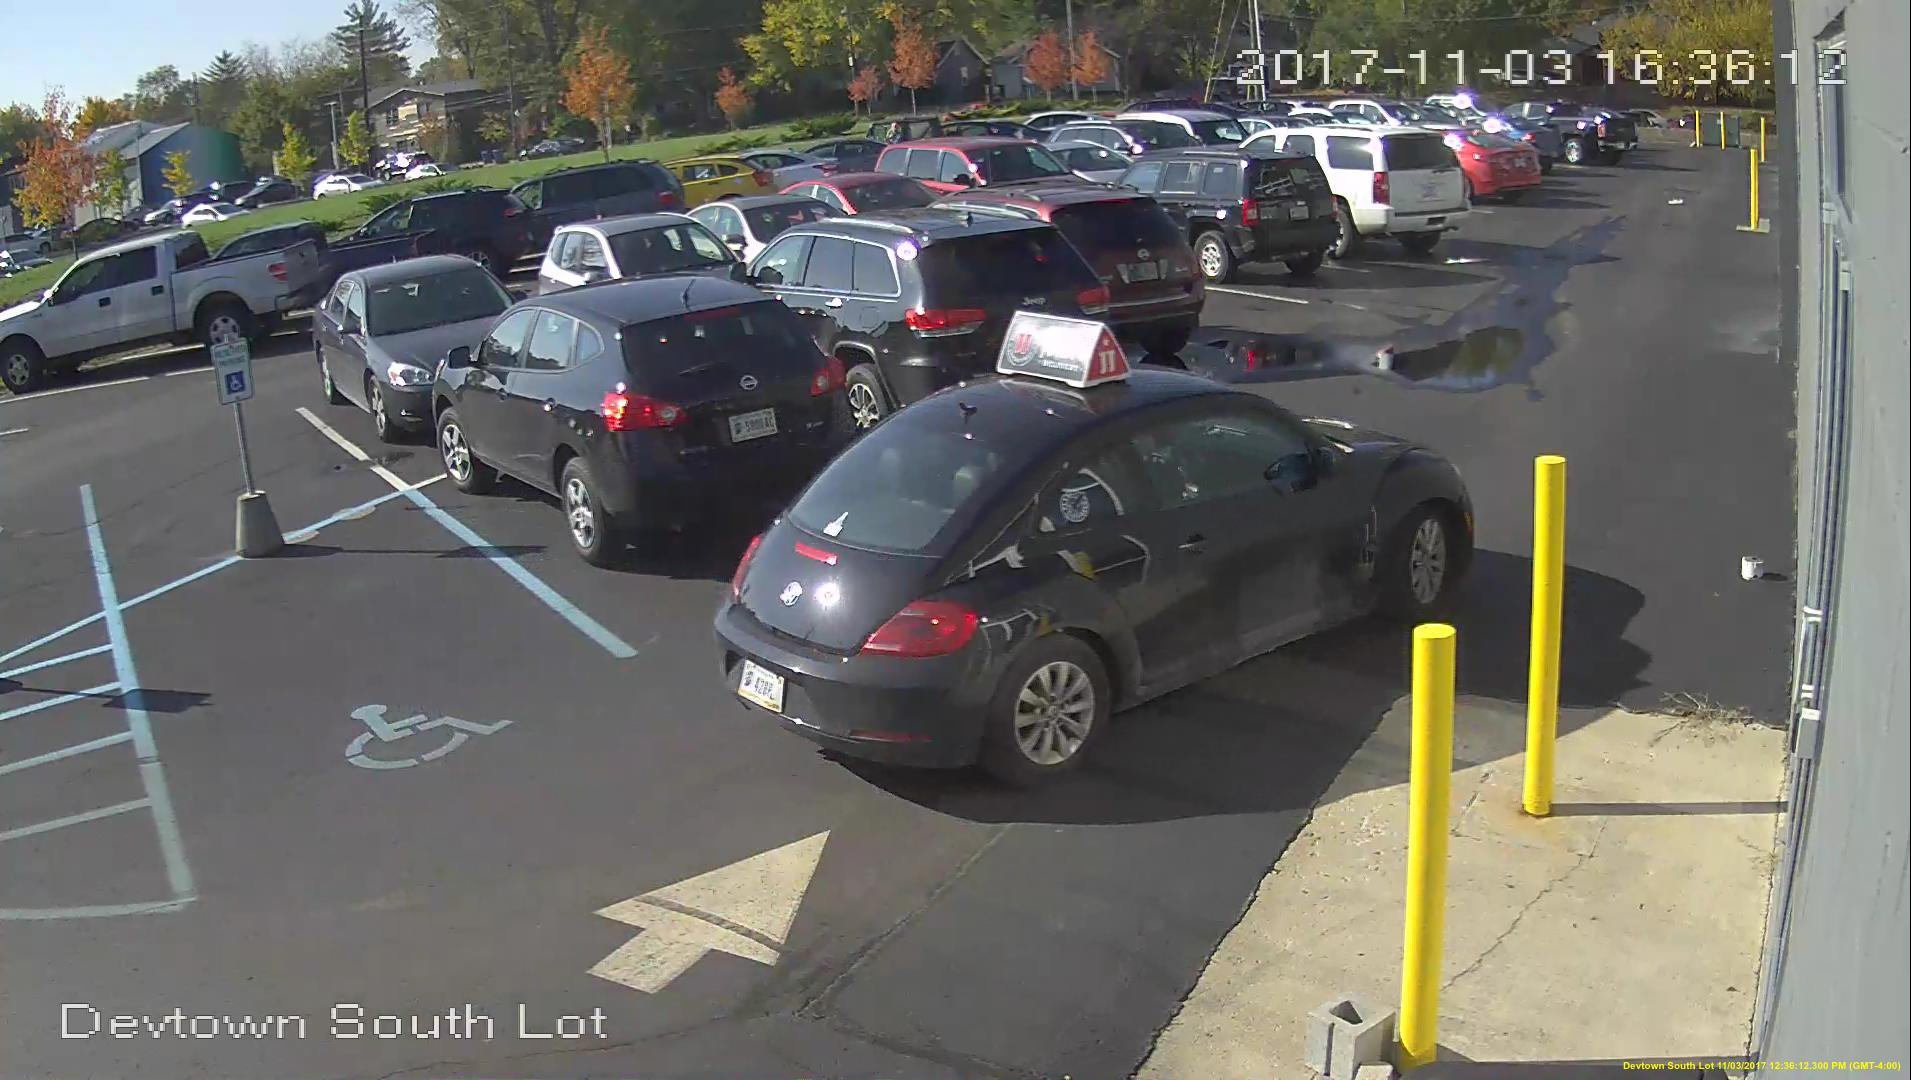jimmy_johns: (984, 306, 1137, 388)
